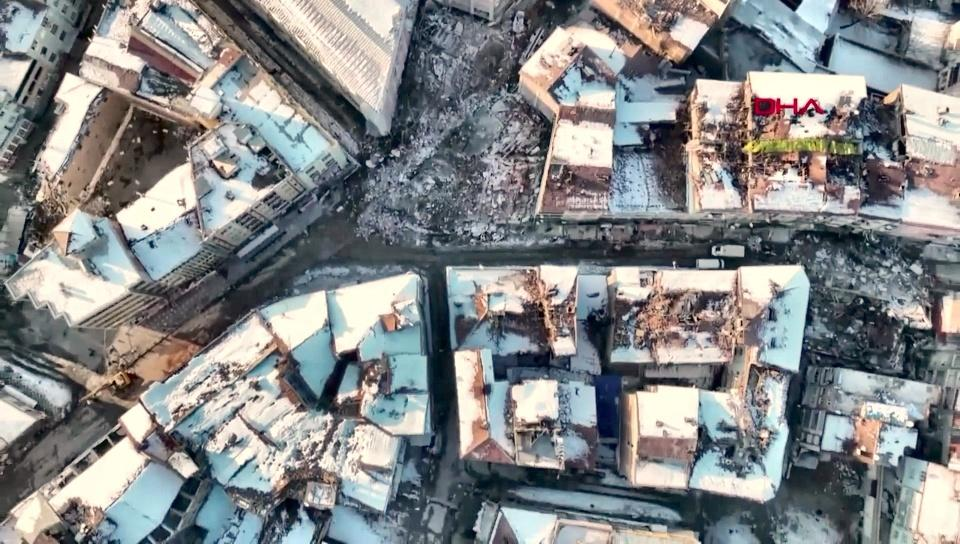kapali: (330, 0, 586, 239), (765, 241, 959, 292)
